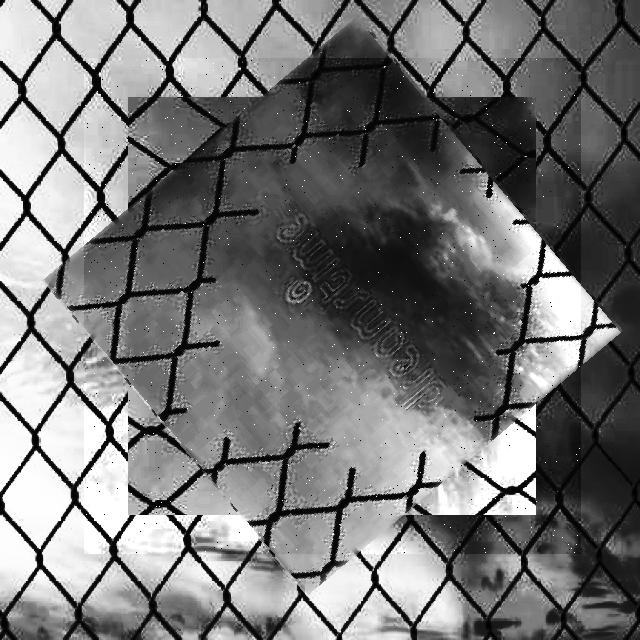anomaly-fence: (84, 58, 581, 554)
